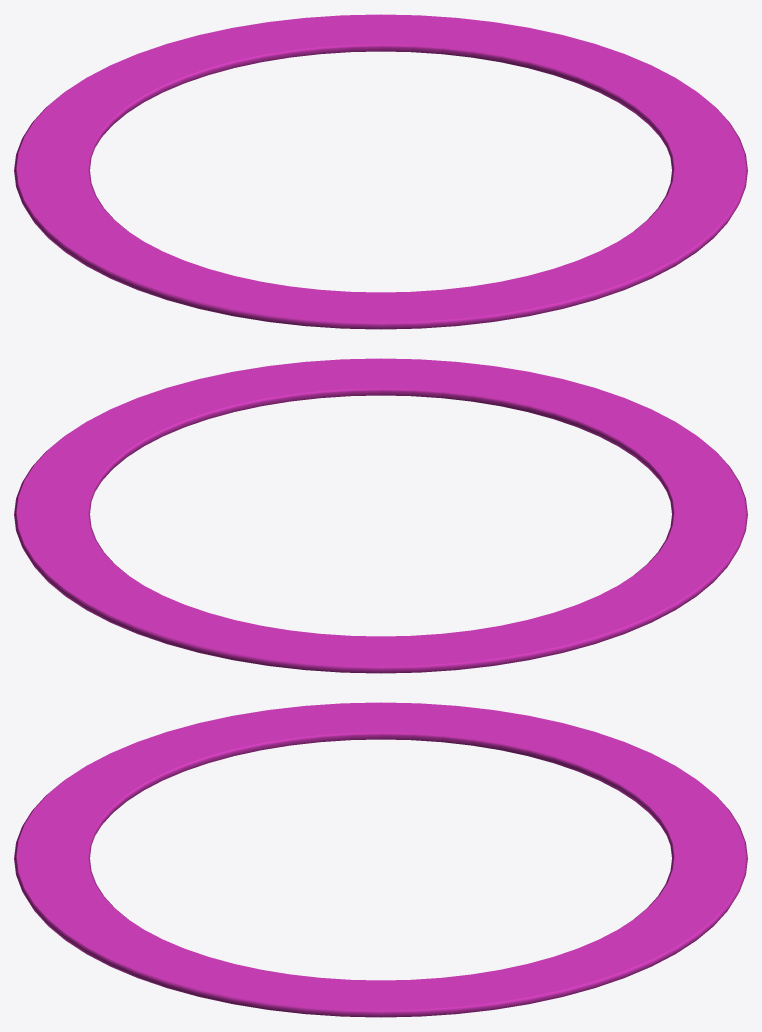
File: Code_Cylinder_02.fbx
3 renders of one model, top to bottom at view 1: azimuth 30°, elevation 25°; view 2: azimuth 150°, elevation 25°; view 3: azimuth 270°, elevation 25°, orthographic.
Visible parts, largest first — view 1: Code_Cylinder_02; view 2: Code_Cylinder_02; view 3: Code_Cylinder_02.
Part boxes in pixels (<box>): Code_Cylinder_02: <box>14,14,747,329</box>; Code_Cylinder_02: <box>14,358,747,673</box>; Code_Cylinder_02: <box>14,702,747,1017</box>.
Size of the model in its own units: 160 by 1.69 by 160.
